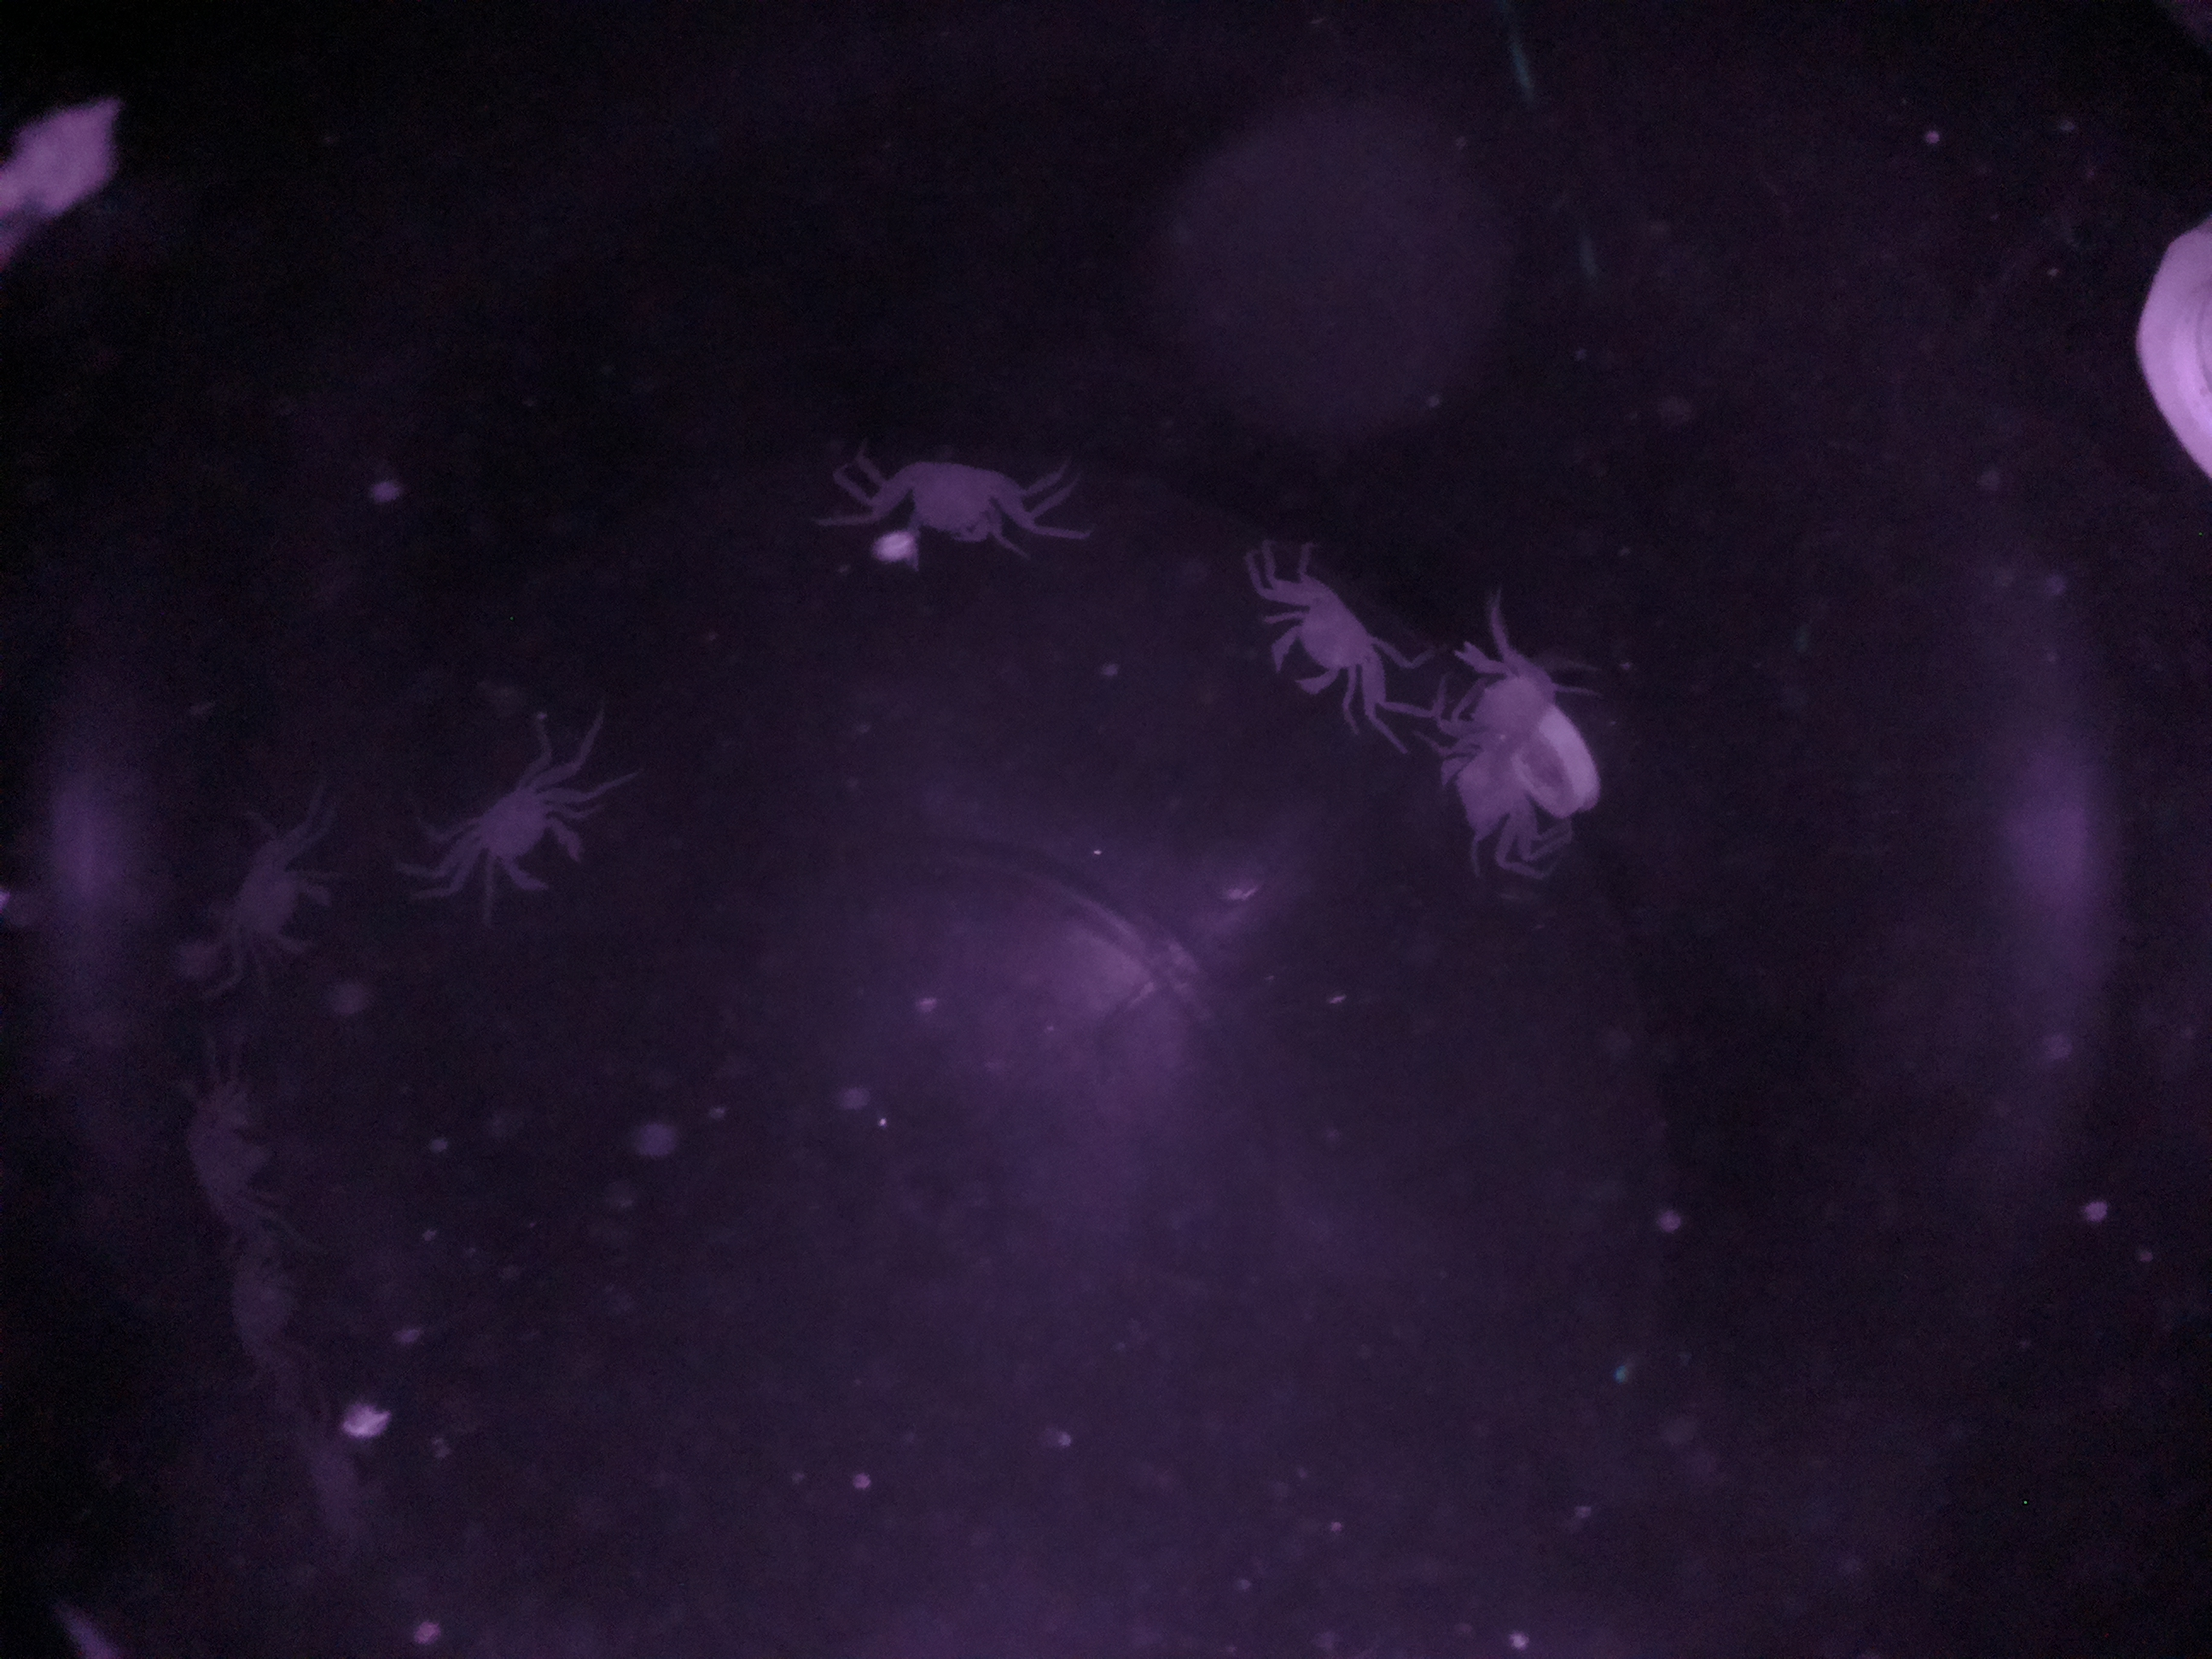Crab: (406, 739, 610, 929), (1230, 533, 1409, 739), (197, 788, 361, 1007), (845, 425, 1042, 589)
